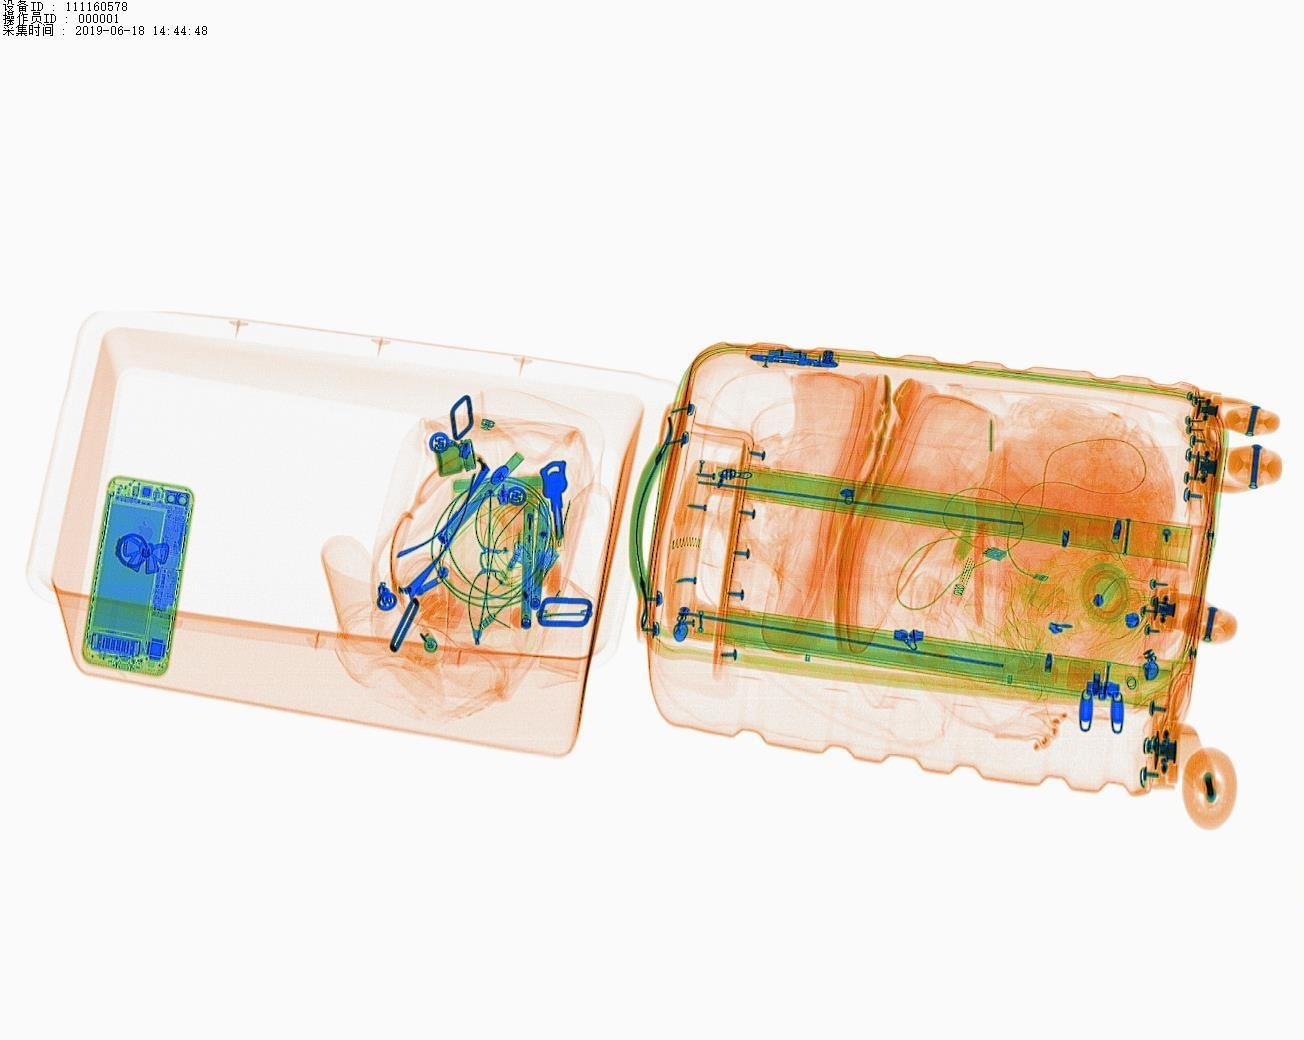NonmetallicFire: (507, 484, 542, 580)
